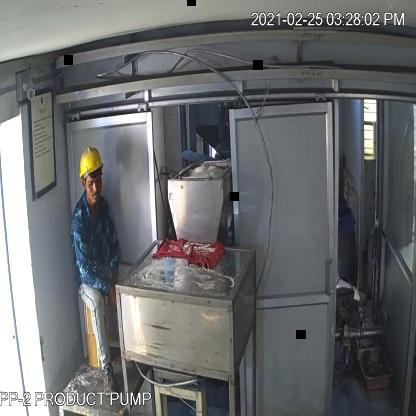helmet: (74, 145, 107, 180)
